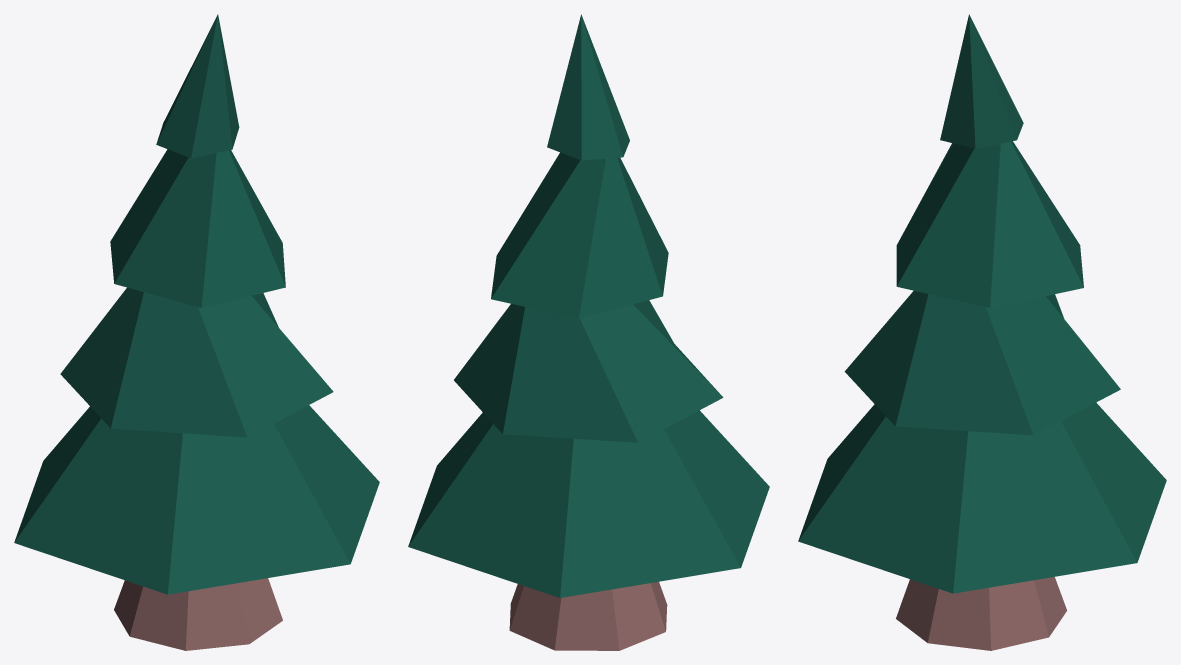
The model's file is Ёлка.fbx.
The picture shows the model from 3 angles, left to right: view 1: azimuth 30°, elevation 25°; view 2: azimuth 150°, elevation 25°; view 3: azimuth 270°, elevation 25°; orthographic projection.
Parts seen in each view (by area): view 1: Дерево; view 2: Дерево; view 3: Дерево.
Part boxes in pixels (bbox=[...]): Дерево: bbox=[14, 14, 379, 650]; Дерево: bbox=[408, 14, 769, 650]; Дерево: bbox=[798, 14, 1166, 650].
Size of the model in its own units: 279 by 477 by 263.
